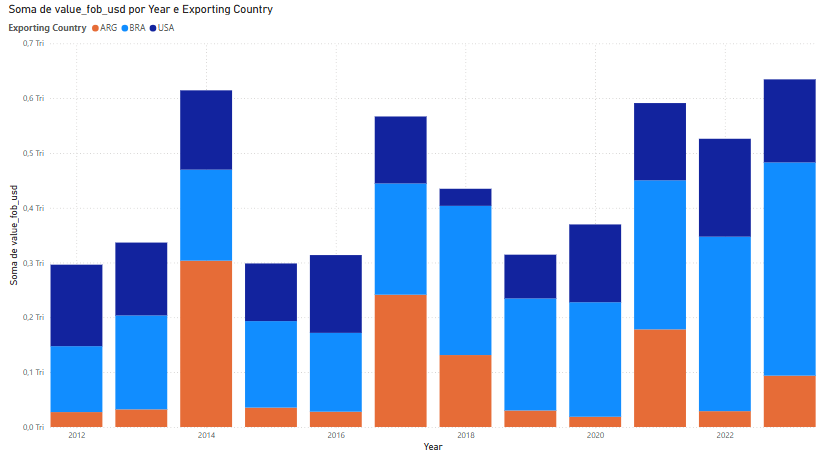

What the dashboard file says about the page in this screenshot:
{"tool":"powerbi","page":{"name":"g3","canvas":[1280,720],"ordinal":2},"visuals":[{"type":"columnChart","fields":{"Category":["clean_data_soyUNComtrade.Year"],"Y":["Sum(clean_data_soyUNComtrade.value_fob_usd)"],"Series":["clean_data_soyUNComtrade.Exporting Country"]},"box":[0,0,1280,720.6],"z":0}]}

Visuals, with their boxes in screenshot pixels (x1, y1, x2, y2), scaled from the page's 1280x720 canvas onto the 823x452 screenshot:
columnChart - clean_data_soyUNComtrade.Year x Sum(clean_data_soyUNComtrade.value_fob_usd): (left=0, top=0, right=822, bottom=451)
